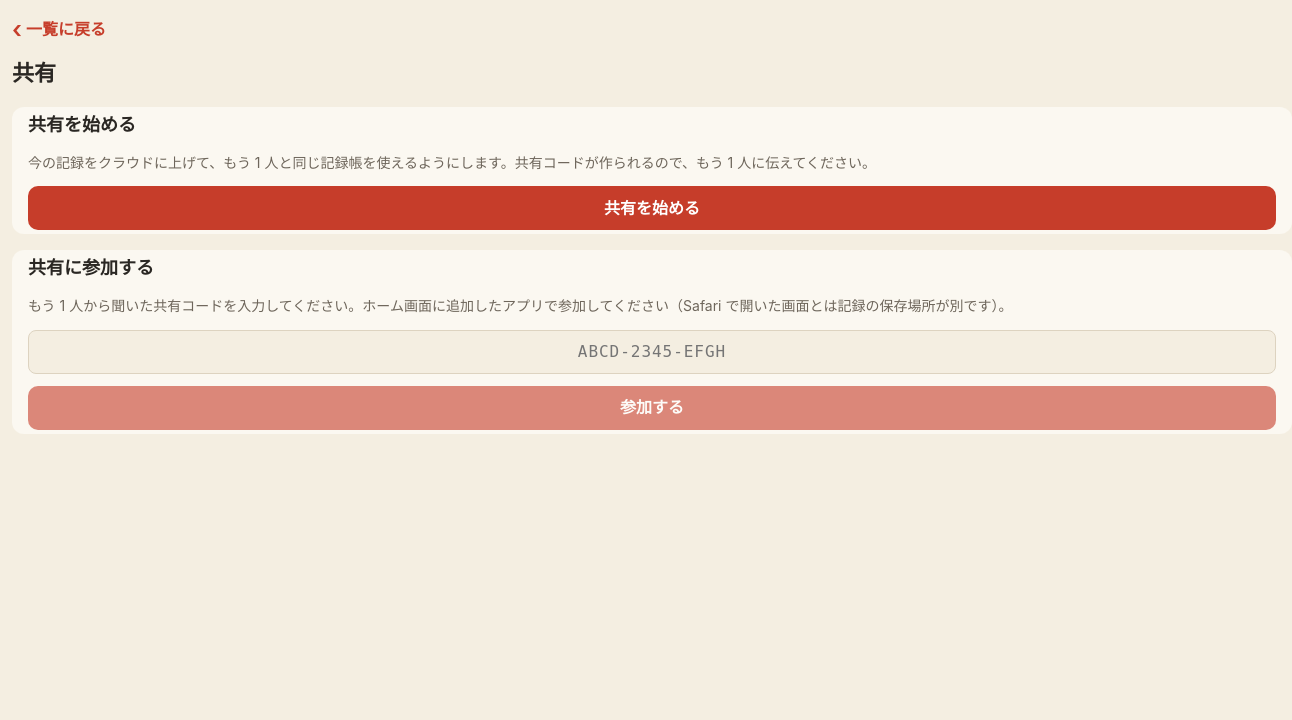
Scenario: SharePage：共有に参加する › 参加できなければ理由を表示する（{"status":"invalid"}）
In the field named "共有コード": (652,352) [28,330,1276,374], type "ABCD-2345-EFGX"
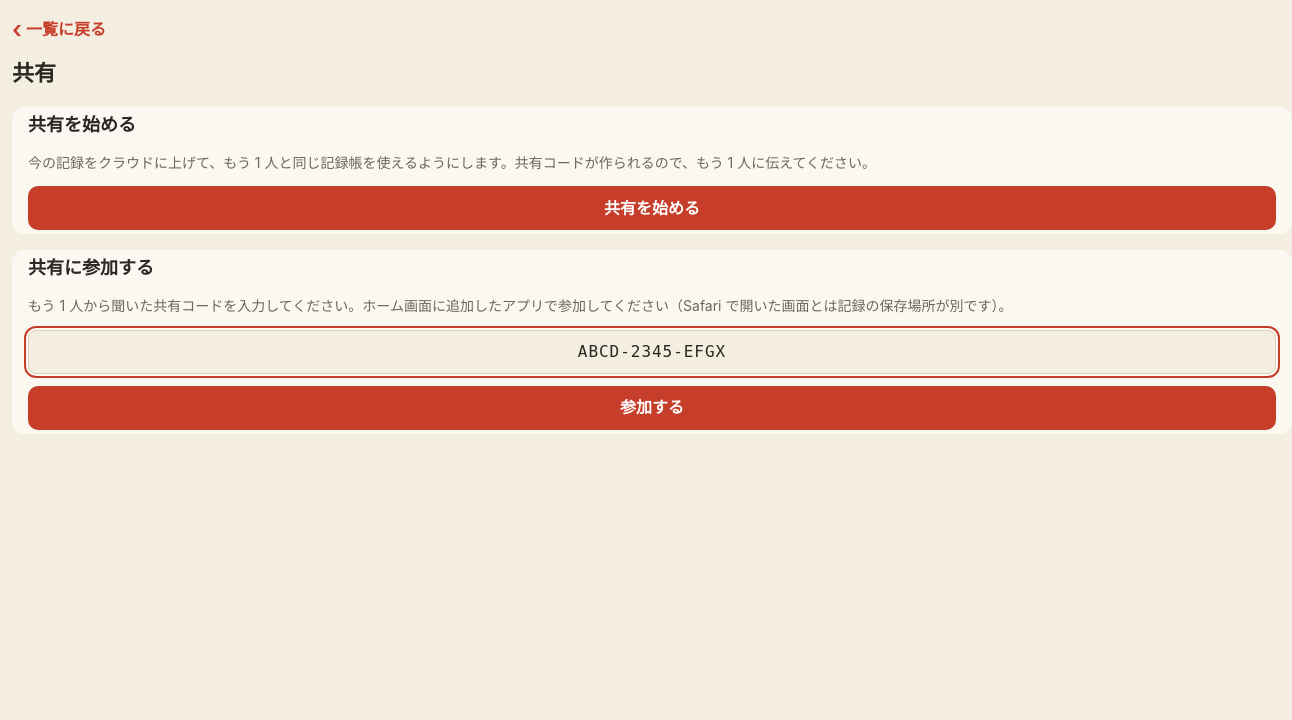
Click the button "参加する": (652,408) [28,386,1276,430]
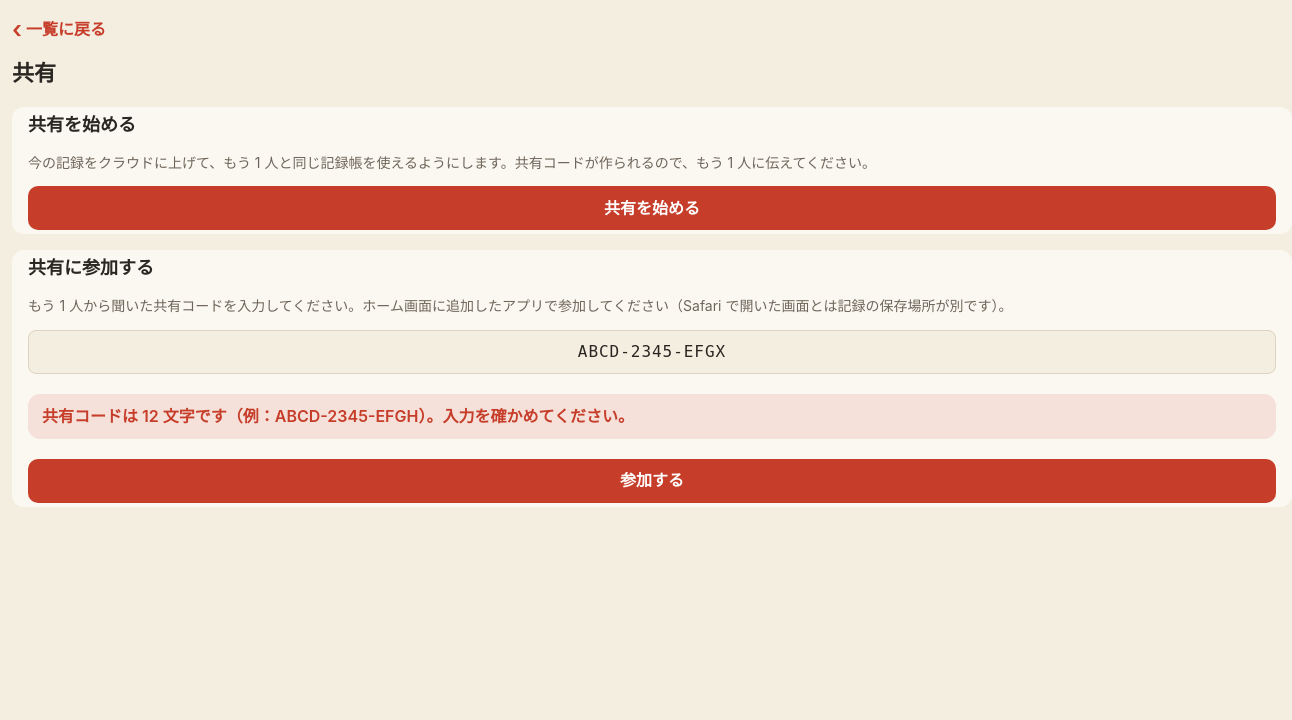
expect the button "参加する" is enabled: met, box [28,459,1276,503]
expect the message reads "共有コードは 12 文字です（例：ABCD-2345-EFGH）。入力を確かめてください。": met, box [42,406,634,426]
